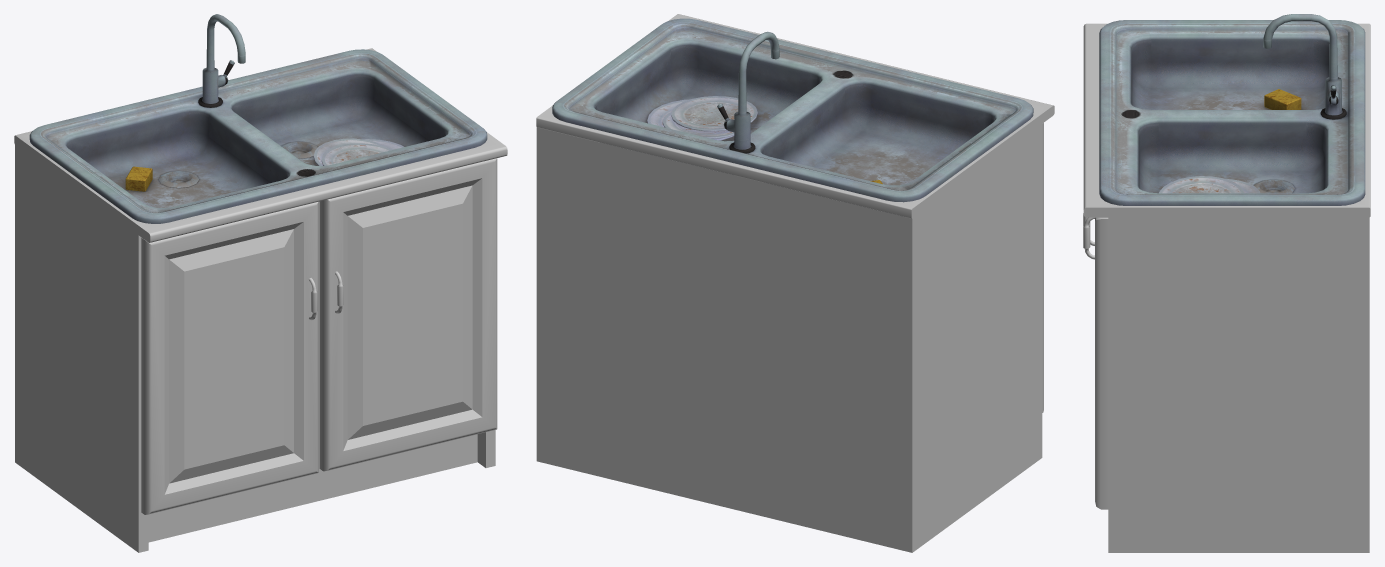
File: Cupboard_kitch_down2.fbx
3 renders of one model, left to right at view 1: azimuth 30°, elevation 25°; view 2: azimuth 150°, elevation 25°; view 3: azimuth 270°, elevation 25°, orthographic. The views are drawn at different scales.
Visible parts, largest first — view 1: Cupboard_kitch_down2, Sink2; view 2: Cupboard_kitch_down2, Sink2; view 3: Cupboard_kitch_down2, Sink2.
Part boxes in pixels (x1,y1,x2,y2): Cupboard_kitch_down2: (14,48,507,552); Sink2: (29,14,487,223); Cupboard_kitch_down2: (536,14,1054,552); Sink2: (552,18,1033,202); Cupboard_kitch_down2: (1083,23,1370,552); Sink2: (1099,14,1365,205).
Size of the model in its own units: 100 by 113 by 66.05.
